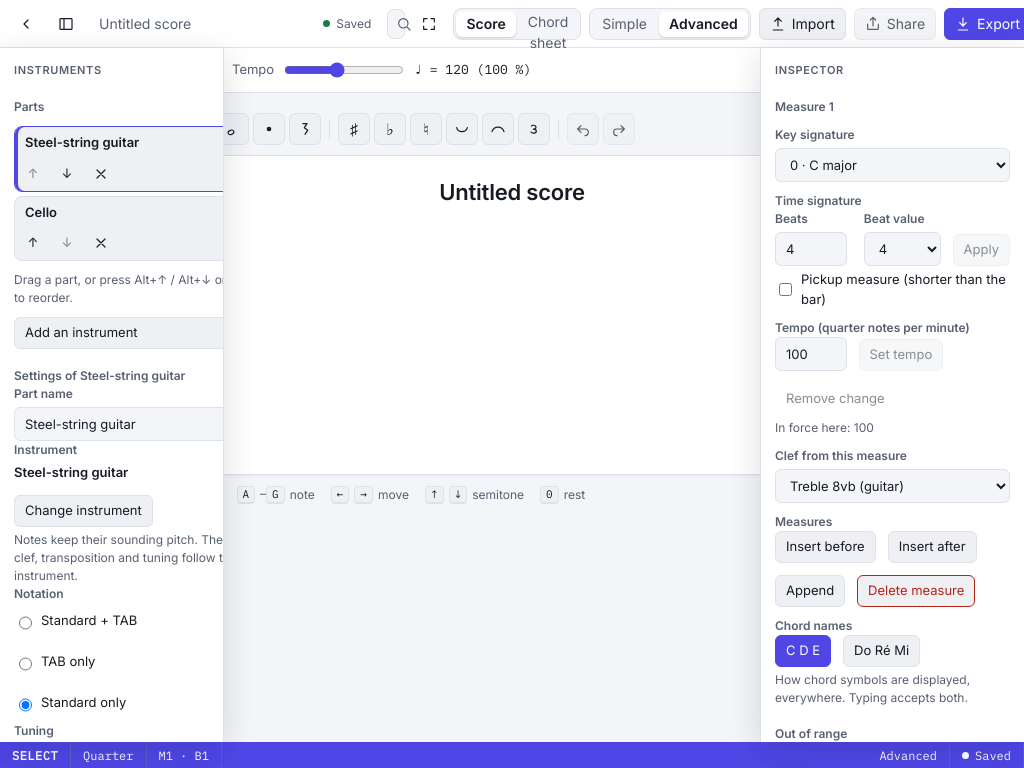
Test: instruments panel › removes a part only after a confirmation
Click the button named "Remove Cello" at (101, 243), box [85,228,117,258]
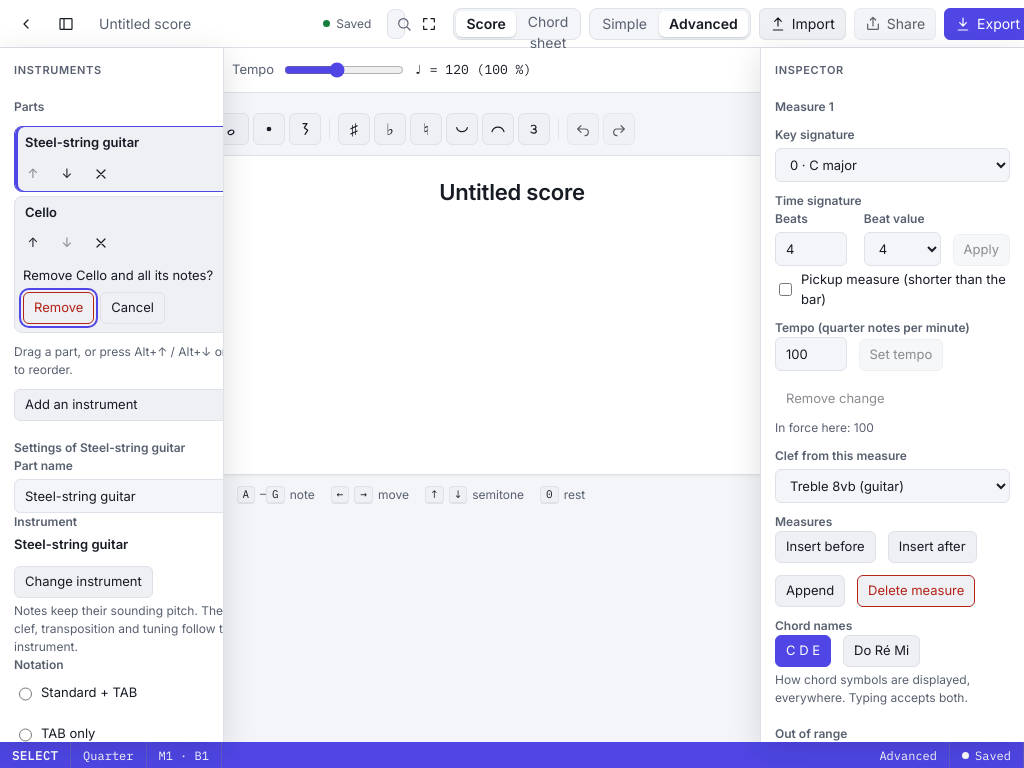
Click the button "Remove" at (59, 308), box [23,292,94,324]
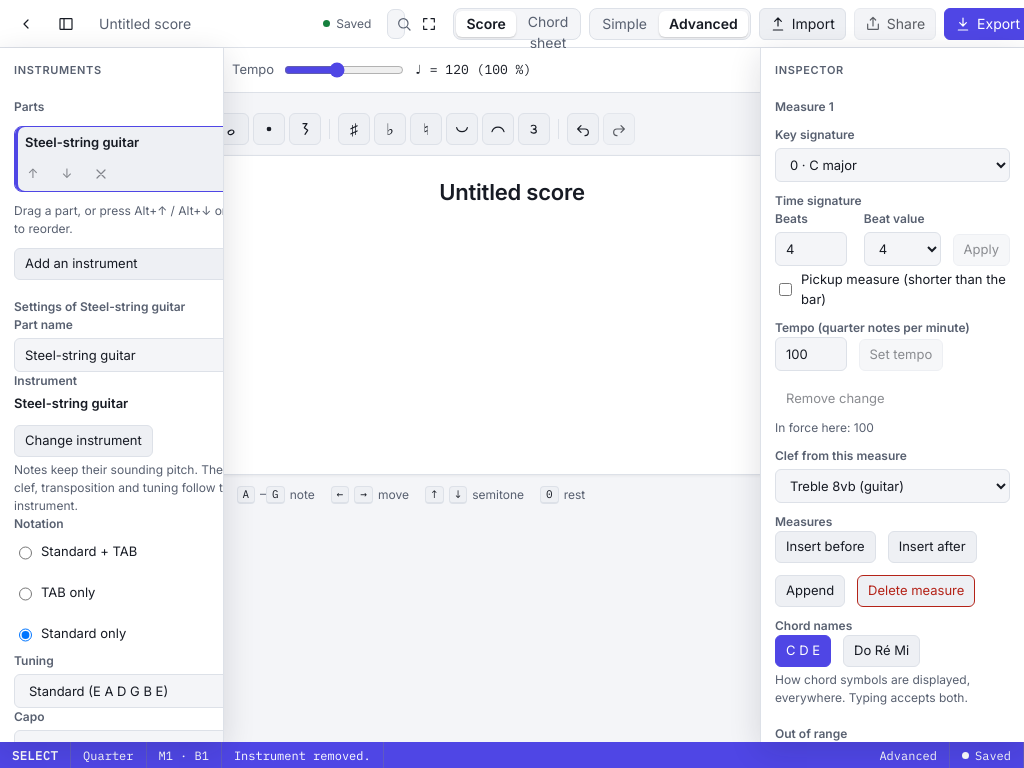
Expected: the button named "Remove Steel-string guitar" is disabled, [85,158,117,188]
